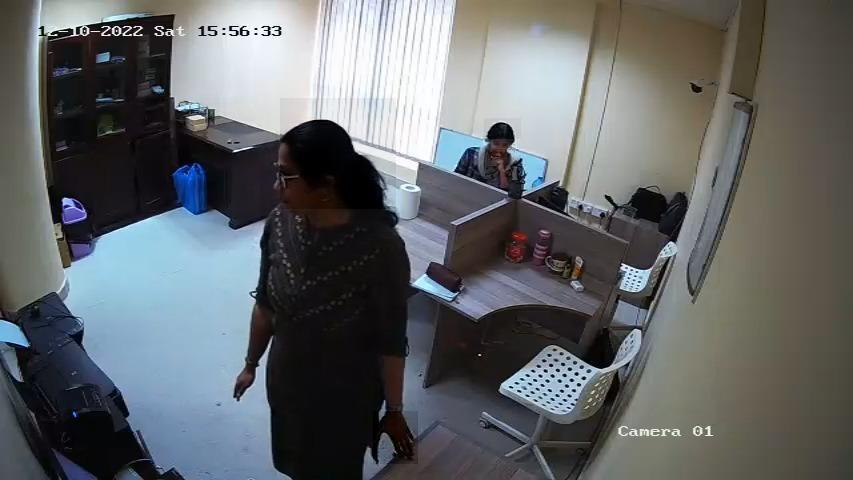no_apron: (374, 412, 419, 464), (228, 366, 255, 404), (486, 149, 516, 177)
no_gloves: (280, 99, 396, 210), (484, 119, 521, 140)
no_hairnet: (260, 167, 317, 225), (483, 139, 516, 163)
